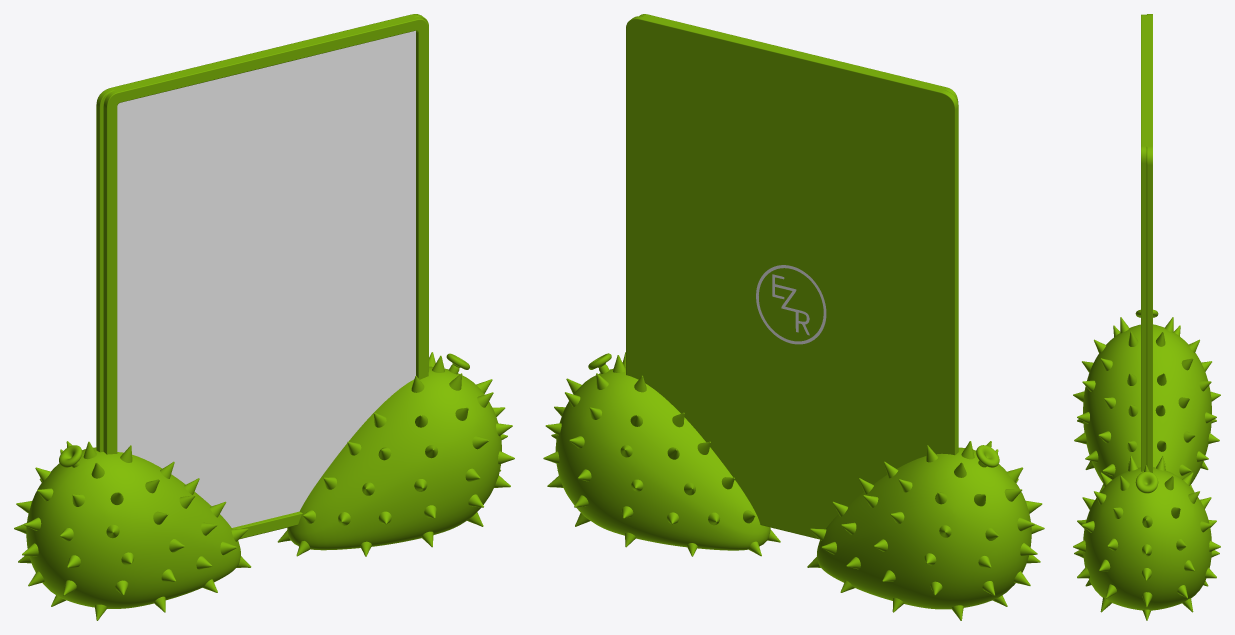
File: mirror97158.glb
3 views of the same model, side by side, from view 1: azimuth 30°, elevation 25°; view 2: azimuth 150°, elevation 25°; view 3: azimuth 270°, elevation 25° (orthographic). The views are drawn at different scales.
Visible parts, largest first — view 1: mirror97158; view 2: mirror97158; view 3: mirror97158.
Boxes of the visible parts, x1,y1,x2,y2 form: mirror97158: (14, 14, 514, 620); mirror97158: (543, 14, 1044, 620); mirror97158: (1073, 14, 1220, 620).
Size of the model in its own units: 0.22 by 0.217 by 0.065.
1 material, 1 textured.
